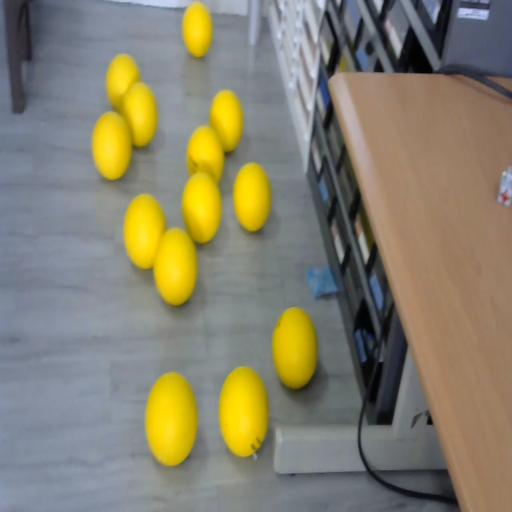FUEL: (144, 370, 198, 466), (218, 366, 270, 457), (271, 304, 318, 389), (152, 226, 198, 306), (123, 193, 166, 269), (181, 170, 224, 244), (92, 111, 132, 181), (233, 161, 272, 232), (121, 82, 158, 148), (210, 89, 244, 153), (182, 1, 212, 57)
